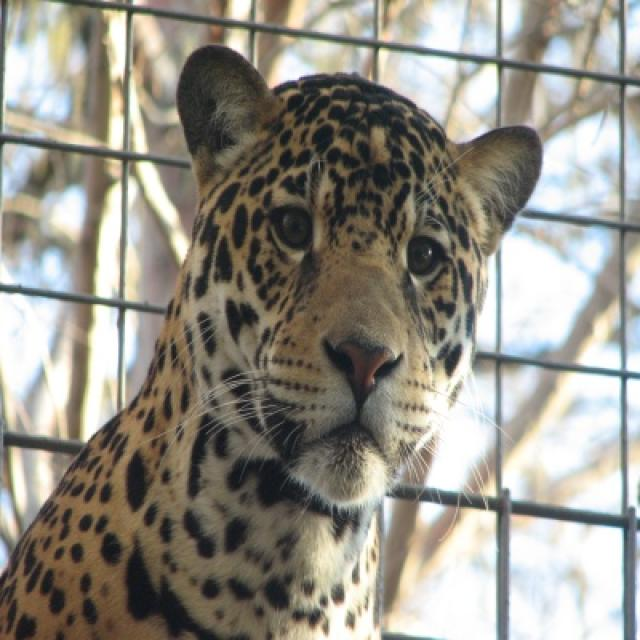Jaguar: (0, 45, 542, 638)
